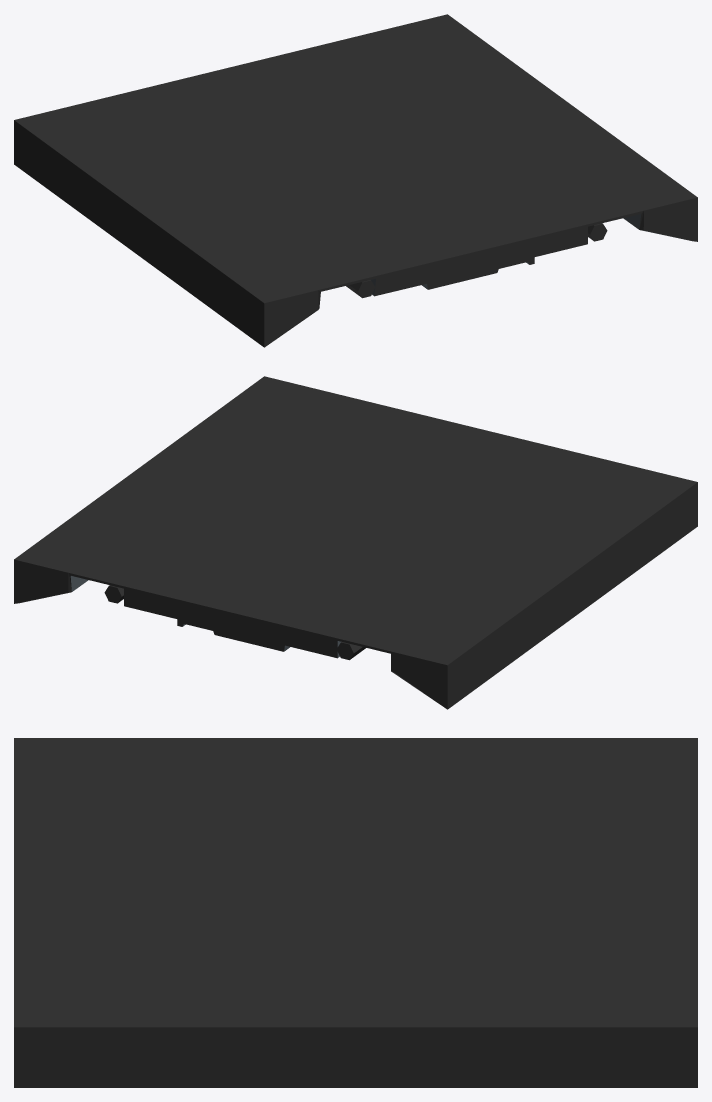
File: SM_Bld_Ceiling_01.fbx
The picture shows the model from 3 angles, top to bottom: view 1: azimuth 30°, elevation 25°; view 2: azimuth 150°, elevation 25°; view 3: azimuth 270°, elevation 25°; orthographic projection. The views are drawn at different scales.
Parts seen in each view (by area): view 1: SM_Bld_Ceiling_01; view 2: SM_Bld_Ceiling_01; view 3: SM_Bld_Ceiling_01.
Boxes of the visible parts, x1,y1,x2,y2 form: SM_Bld_Ceiling_01: [14, 14, 697, 347]; SM_Bld_Ceiling_01: [14, 376, 697, 709]; SM_Bld_Ceiling_01: [14, 738, 697, 1087].
Bounding box in the file's own units: 500 × 48.92 × 500.
1 material, 1 textured.
